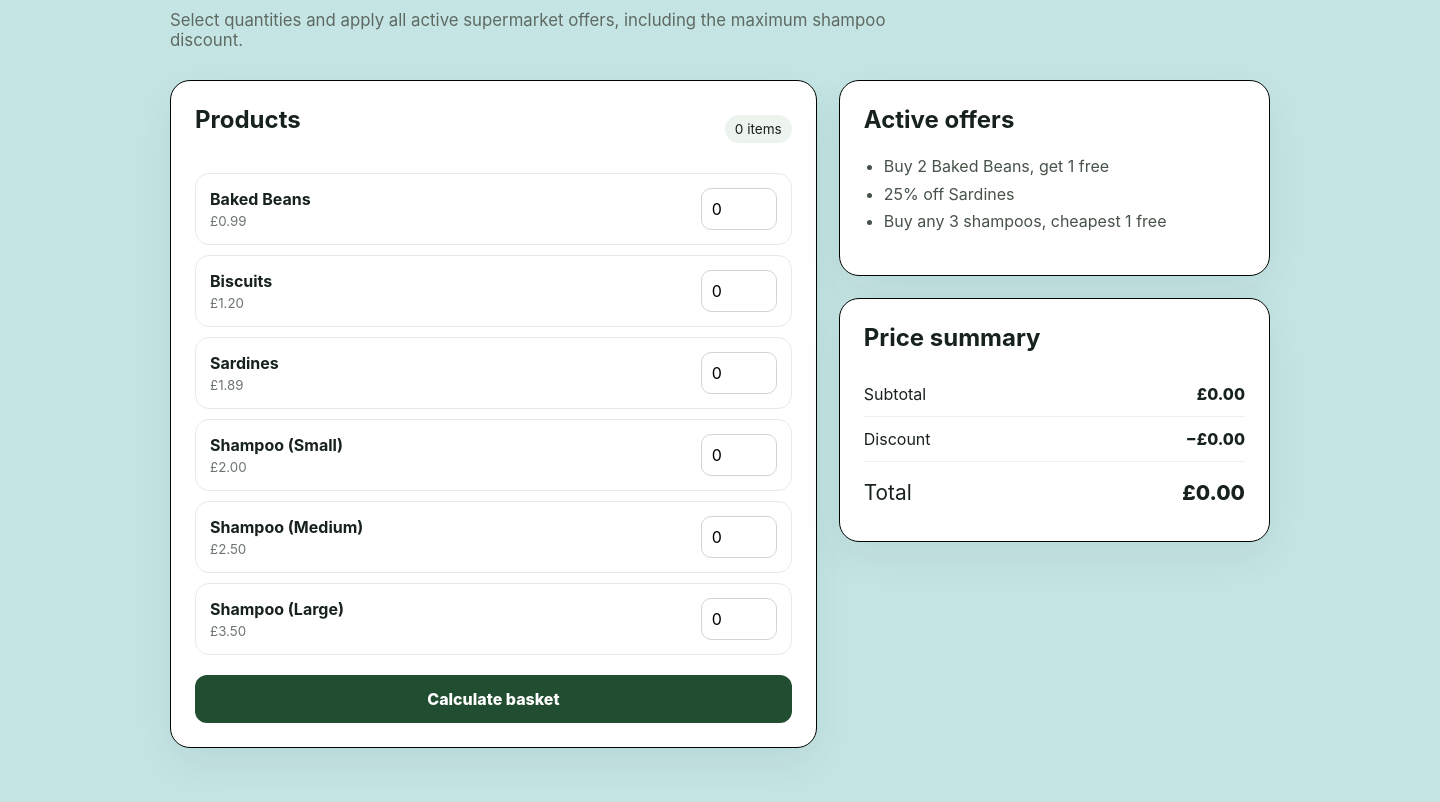
Test case: submits shampoo basket and displays matching totals
The image size is (1440, 802).
(page scrolled)
Expected: the text "Shampoo (Large)" is shown, [210,599,344,619]
Replace the text in the number field named "Shampoo (Large) quantity" with "3" at (739, 619), box [701,598,777,640]
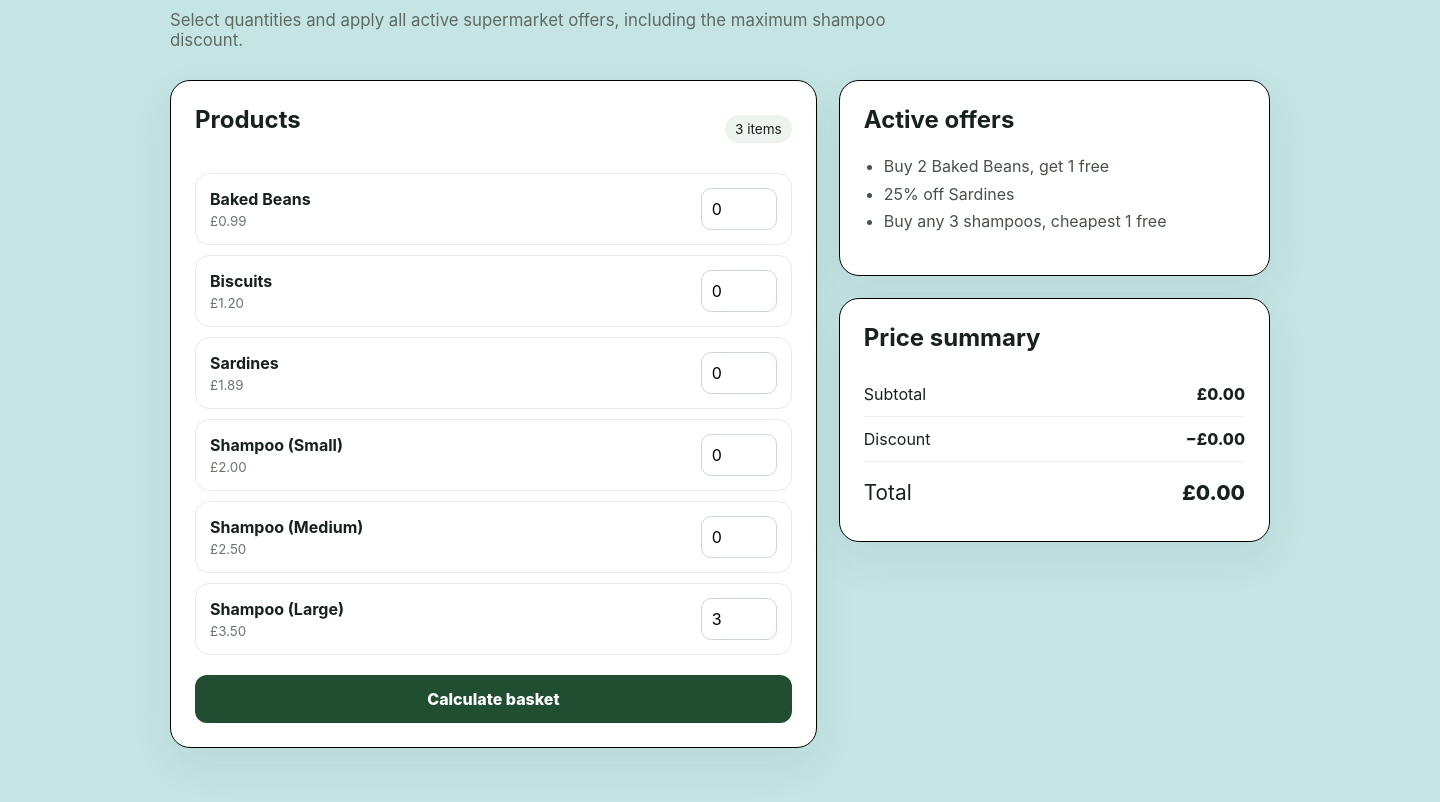
Replace the text in the number field named "Shampoo (Medium) quantity" with "1" at (739, 537), box [701,516,777,558]
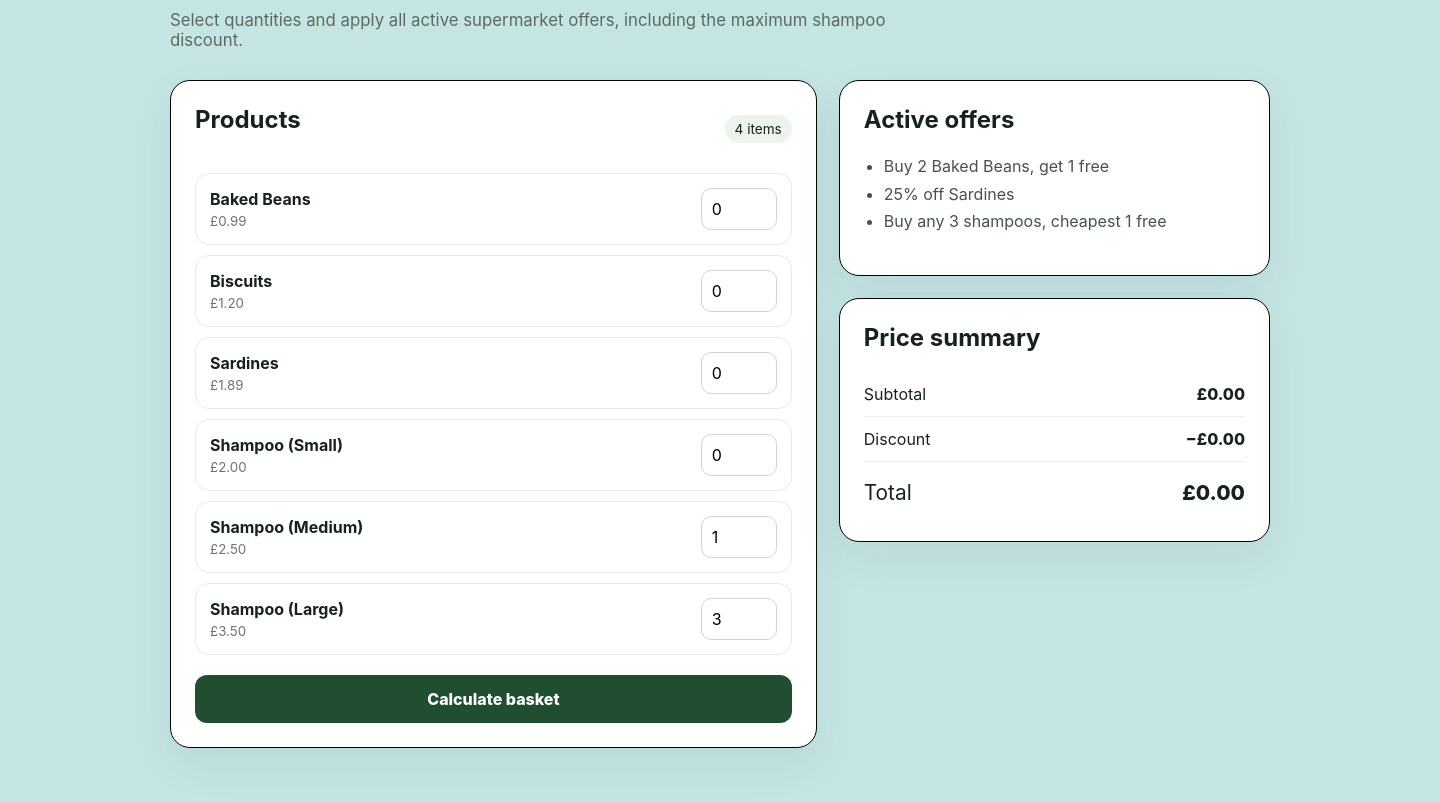
Replace the text in the number field named "Shampoo (Small) quantity" with "2" at (739, 455), box [701,434,777,476]
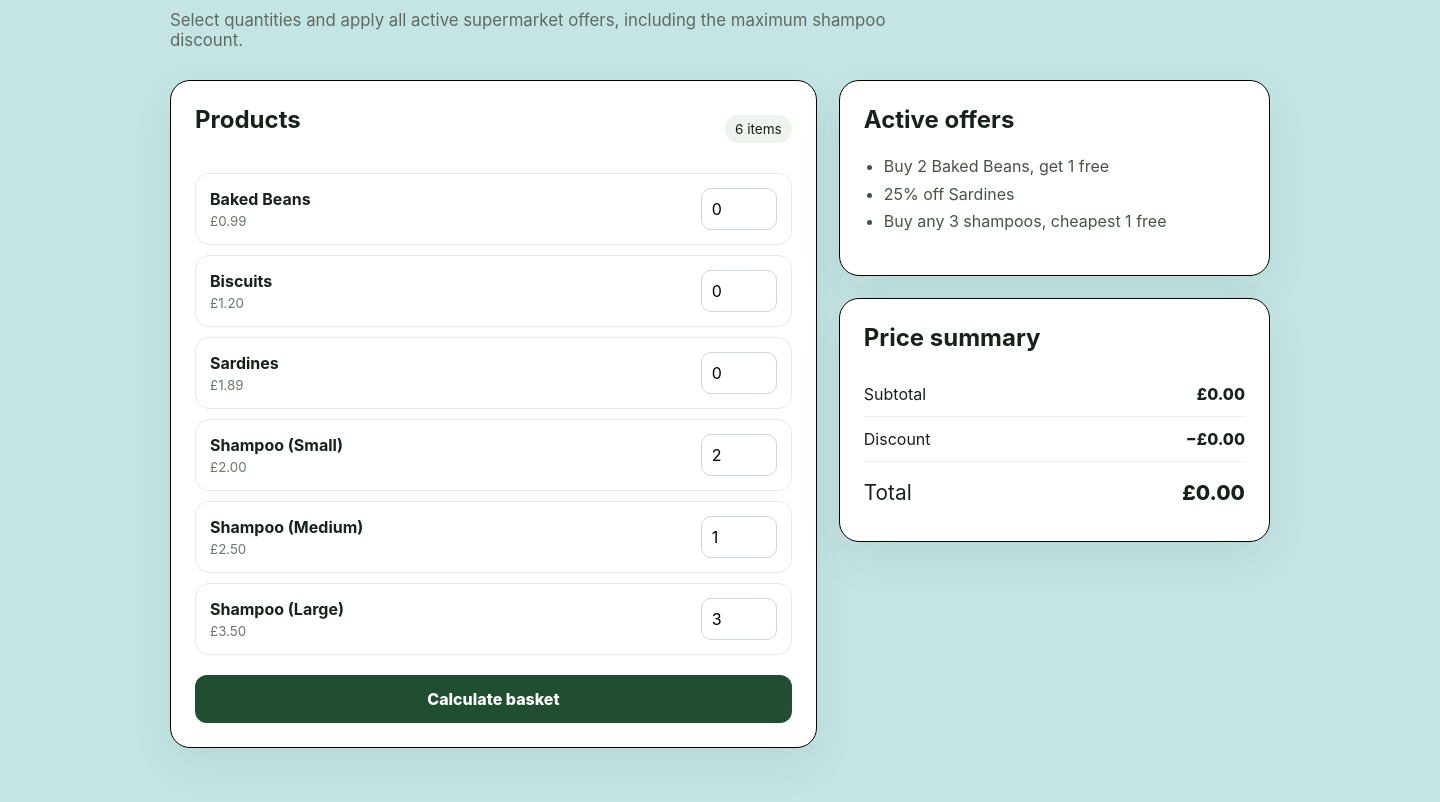
Click the button "Calculate basket" at (493, 699), box [195,675,792,723]
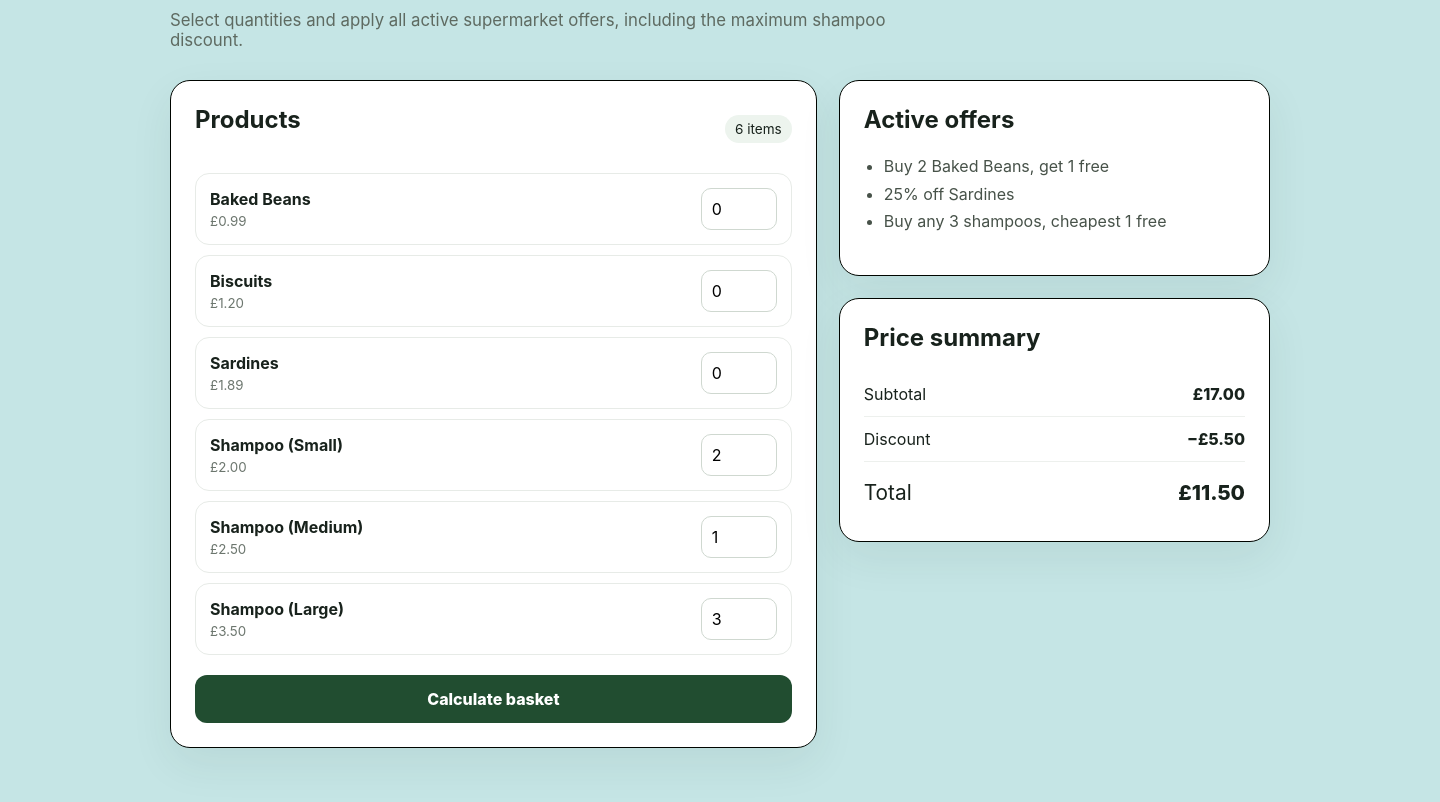
Expected: the text "£11.50" is shown, [1178,480,1245,505]
Expected: the text "−£5.50" is shown, [1187,429,1245,449]
